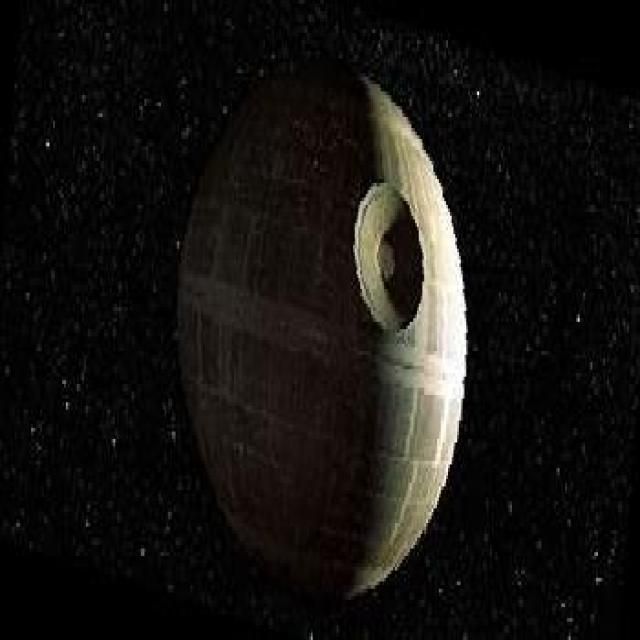Death Star: (170, 48, 472, 614)
